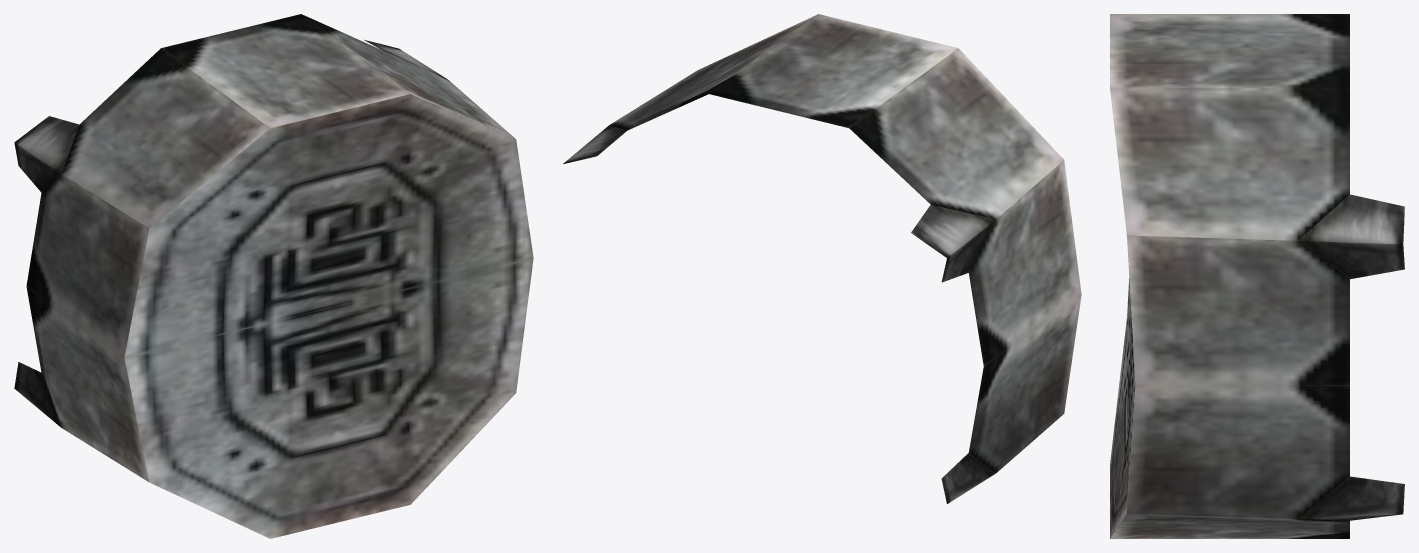
The picture shows the model from 3 angles, left to right: view 1: azimuth 30°, elevation 25°; view 2: azimuth 150°, elevation 25°; view 3: azimuth 270°, elevation 25°; orthographic projection. The views are drawn at different scales.
Visible parts, largest first — view 1: model_Object104; view 2: model_Object104; view 3: model_Object104.
Boxes of the visible parts, bbox=[...] form: model_Object104: bbox=[14, 14, 533, 538]; model_Object104: bbox=[563, 14, 1081, 503]; model_Object104: bbox=[1110, 14, 1404, 538].
Bounding box in the file's own units: 1.24 × 1.19 × 0.7045.
1 material, 1 textured.
